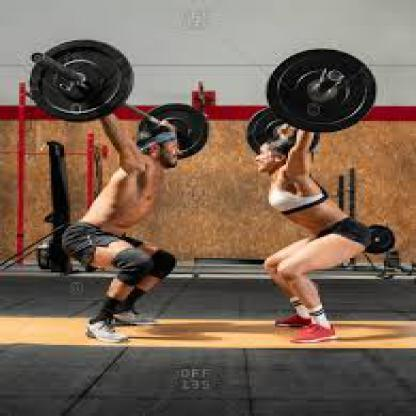Barbell: (328, 69, 347, 85), (31, 53, 48, 66)
